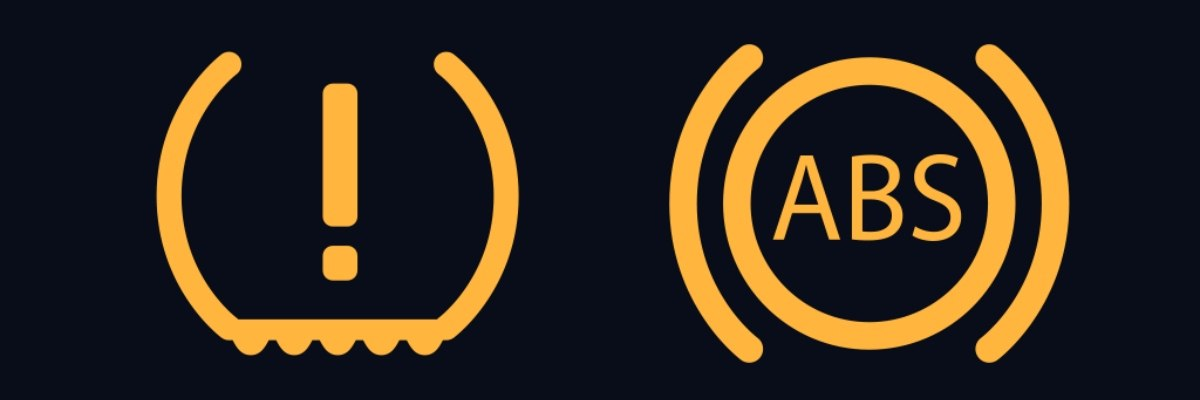Airbag_warning: (650, 30, 1078, 380)
